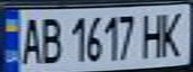1: (63, 12, 87, 63), (103, 12, 121, 62)
6: (84, 12, 106, 62)
7: (118, 11, 139, 61)
A: (15, 14, 45, 65)
B: (36, 12, 66, 65)
H: (139, 9, 169, 58)
K: (157, 7, 190, 58)
